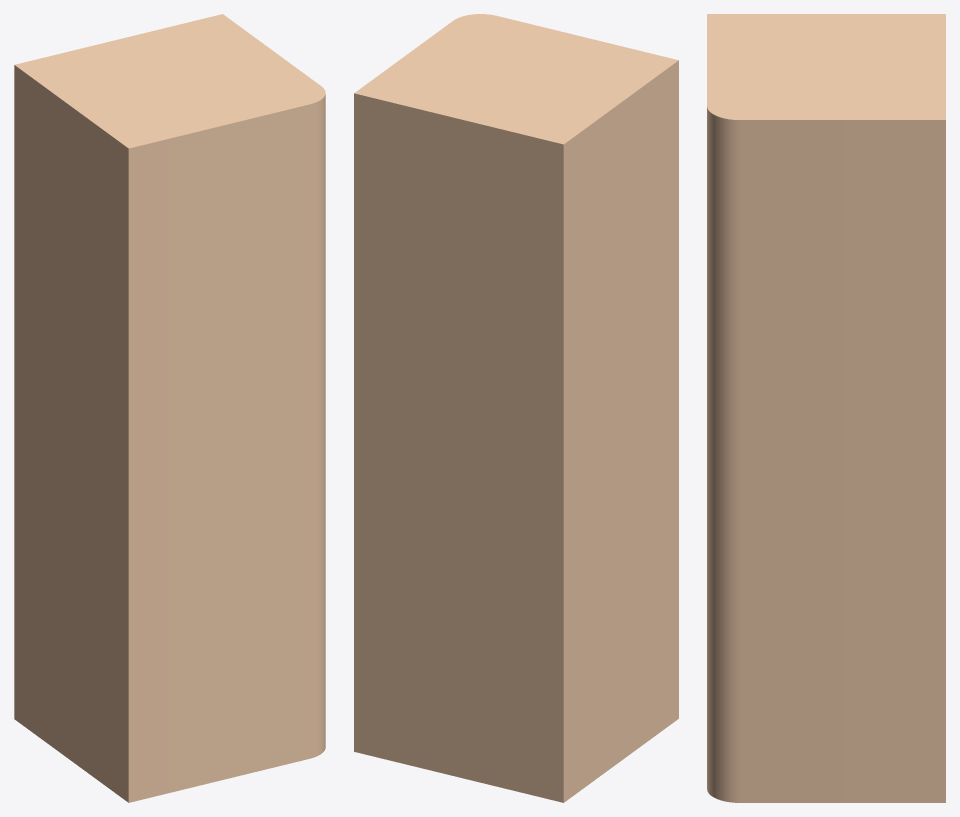
Rendered from Wall Block B.fbx.
The picture shows the model from 3 angles, left to right: view 1: azimuth 30°, elevation 25°; view 2: azimuth 150°, elevation 25°; view 3: azimuth 270°, elevation 25°; orthographic projection. The views are drawn at different scales.
Parts seen in each view (by area): view 1: Wall Block B; view 2: Wall Block B; view 3: Wall Block B.
Boxes of the visible parts, x1,y1,x2,y2 form: Wall Block B: [14, 14, 325, 802]; Wall Block B: [354, 14, 678, 802]; Wall Block B: [707, 14, 945, 802].
Bounding box in the file's own units: 100 × 300 × 95.07.
